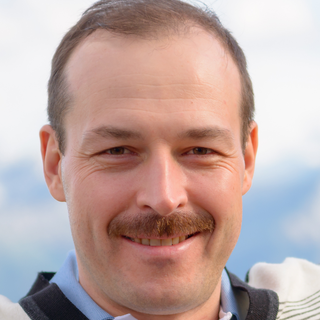eye: (169, 139, 232, 167), (85, 140, 147, 168)
